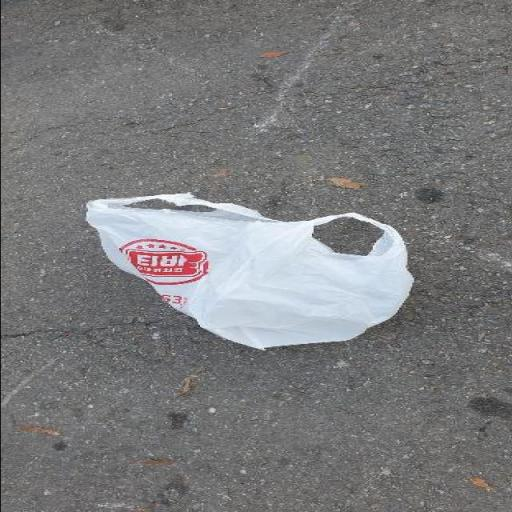plastic-bag: (81, 191, 414, 351)
